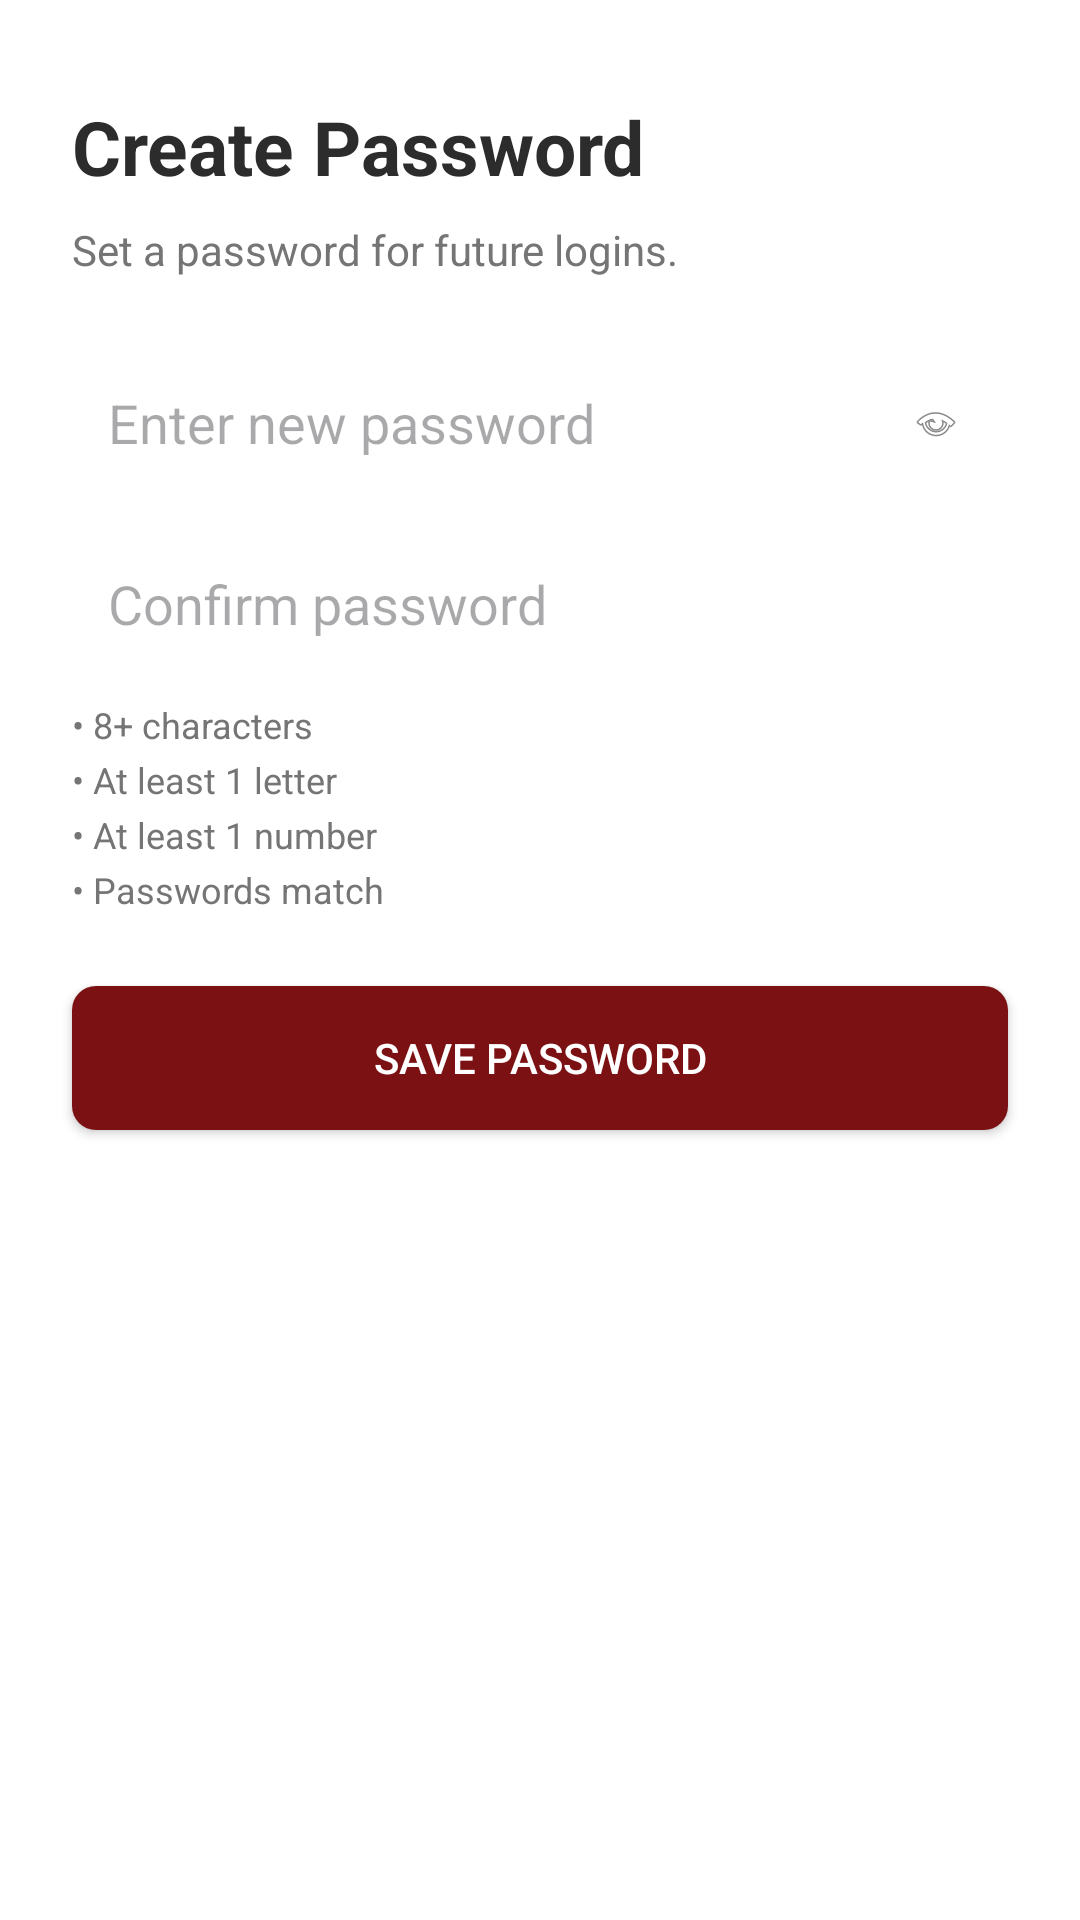

Named icons in this screenshot (1080px×1920px) and their bounding boxes, (x1, y1, x2, y2):
Show/Hide Password: (916, 412, 956, 437)
